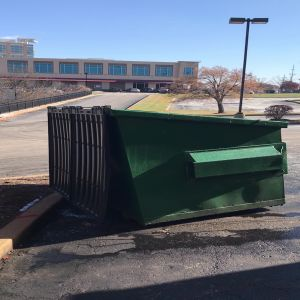Dumpster: (44, 103, 293, 232)
